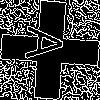A: (25, 25, 74, 63)
